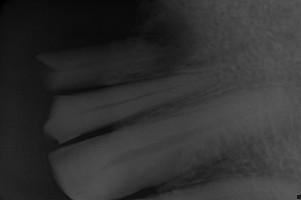Furcation Involvement: (146, 17, 199, 71)
